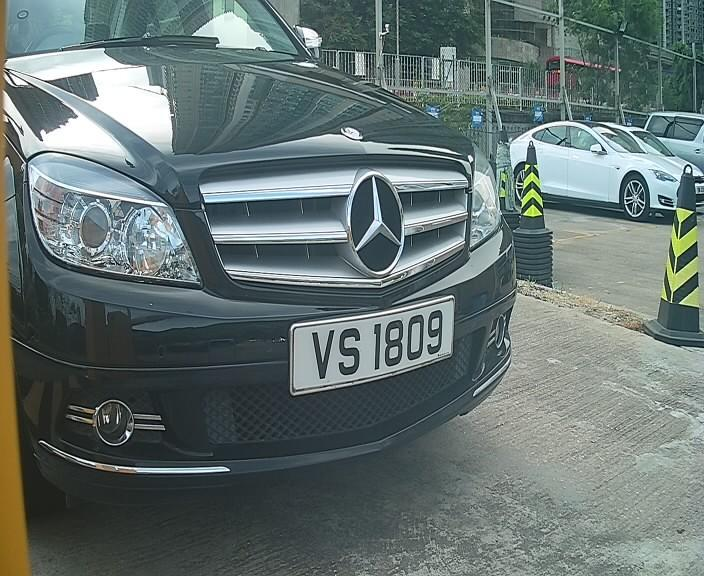privatecar: (7, 16, 547, 517)
